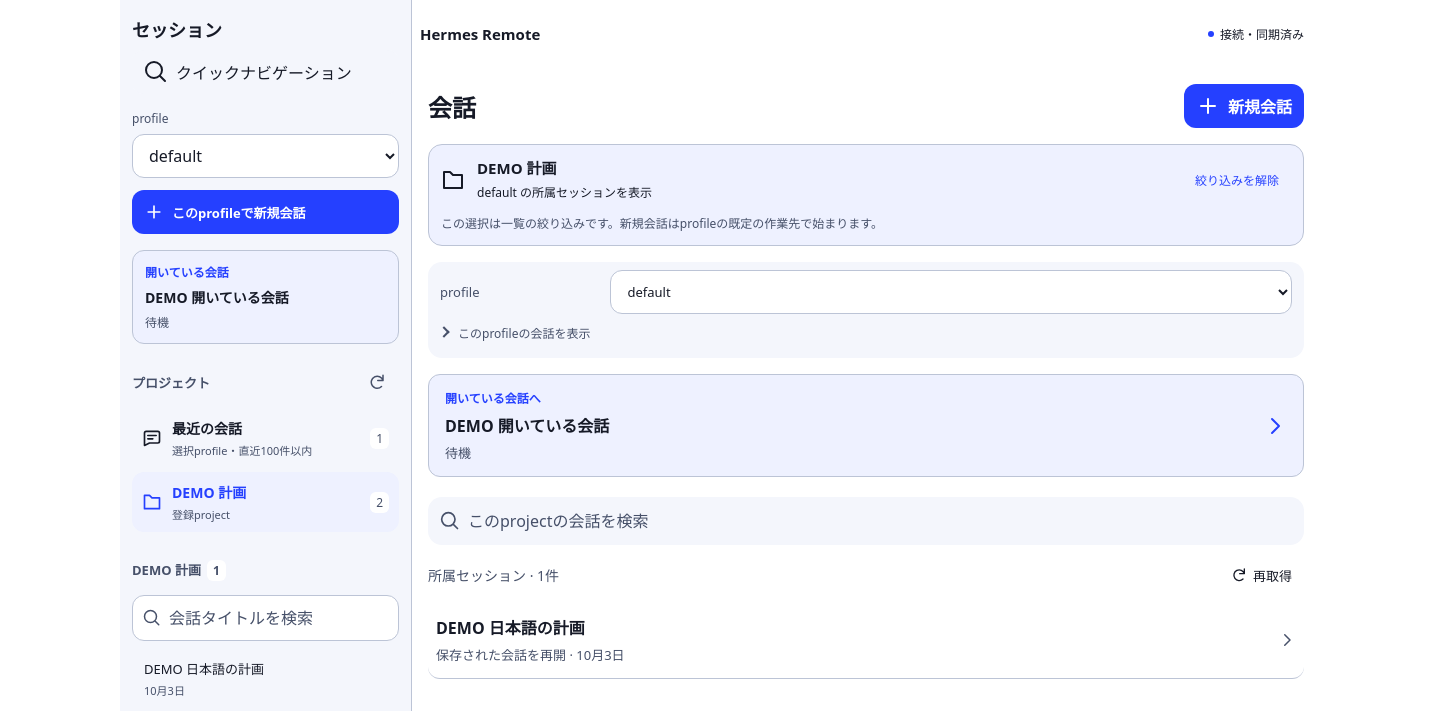
it: profile and project session navigation › shows only loaded project sessions, search scope and the unchanged new-chat workspace
Expected: the element named "選択中のプロジェクト" shows "新規会話はprofileの既定の作業先で始まります", [441,215,883,232]
Expected: the button "DEMO 日本語の計画" is shown, [428,601,1304,679]
Type "not matched" into the search field labelled "会話を検索". click: (882, 521)
box: [468,497,1296,545]
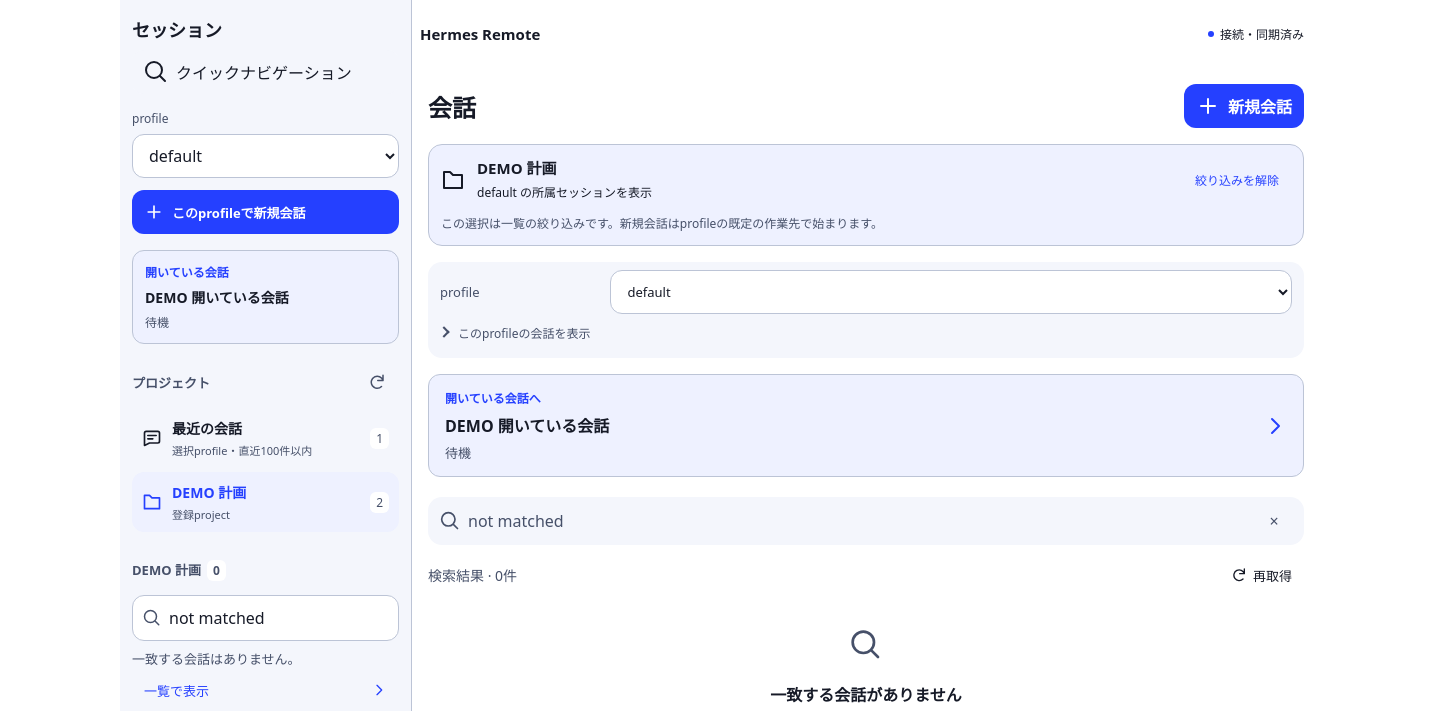
Expected: the heading "一致する会話がありません" is shown, [770,684,962,706]
